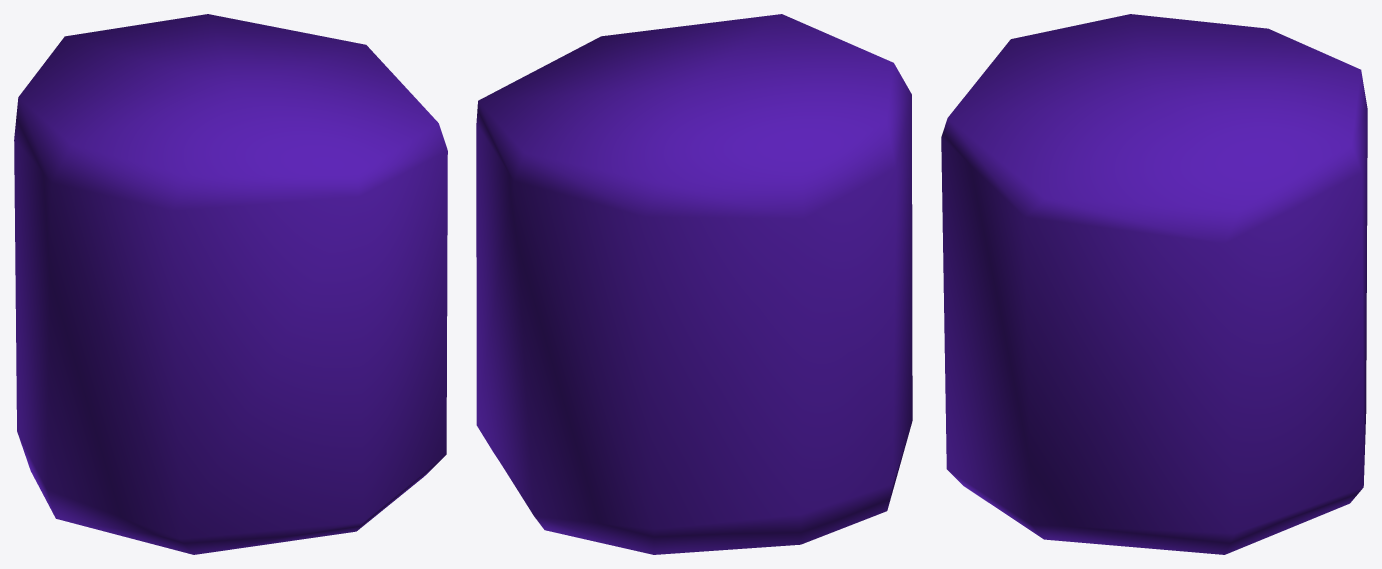
Rendered from column_07.FBX.
The picture shows the model from 3 angles, left to right: view 1: azimuth 30°, elevation 25°; view 2: azimuth 150°, elevation 25°; view 3: azimuth 270°, elevation 25°; orthographic projection.
Parts seen in each view (by area): view 1: column_07; view 2: column_07; view 3: column_07.
Part boxes in pixels (bbox=[...]): column_07: bbox=[14, 14, 447, 554]; column_07: bbox=[476, 14, 912, 554]; column_07: bbox=[941, 14, 1367, 554].
Size of the model in its own units: 9.35 by 9.2 by 9.28.
